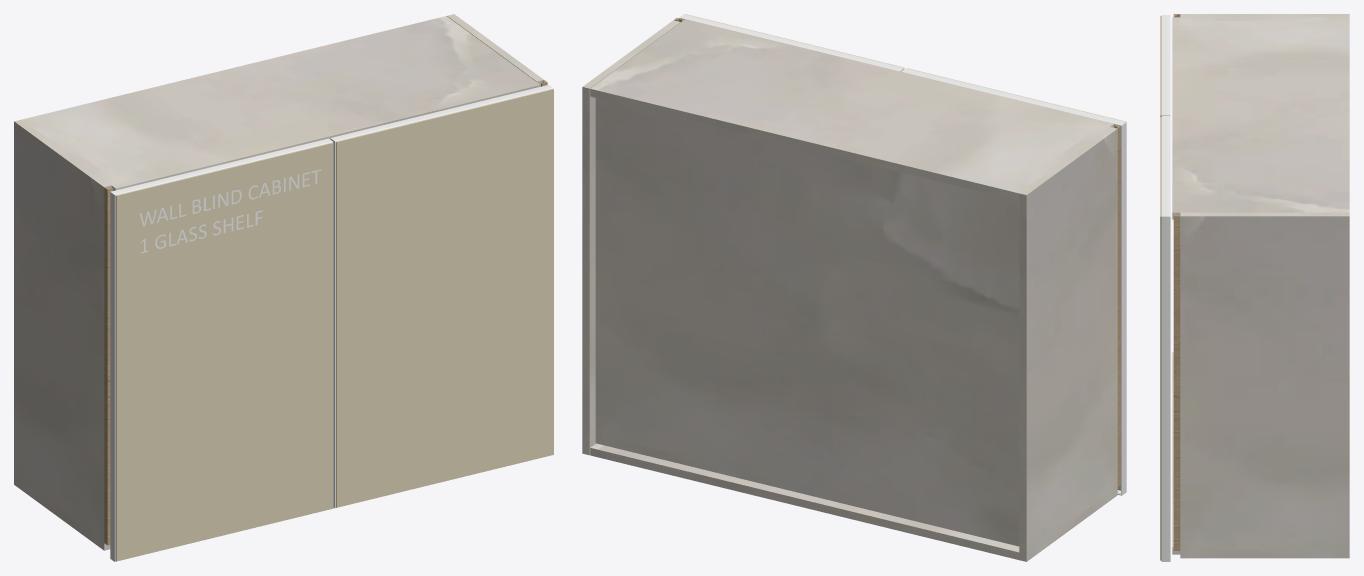
Rendered from WALL BLIND CABINET 1 GLASS SHELF (H720xW900xD336) S450_WBC1GS1HS_RH.glb.
The picture shows the model from 3 angles, left to right: view 1: azimuth 30°, elevation 25°; view 2: azimuth 150°, elevation 25°; view 3: azimuth 270°, elevation 25°; orthographic projection. The views are drawn at different scales.
Size of what is drawn, in the model's own units: 0.9 by 0.7185 by 0.366.
6 materials, 2 textured.
